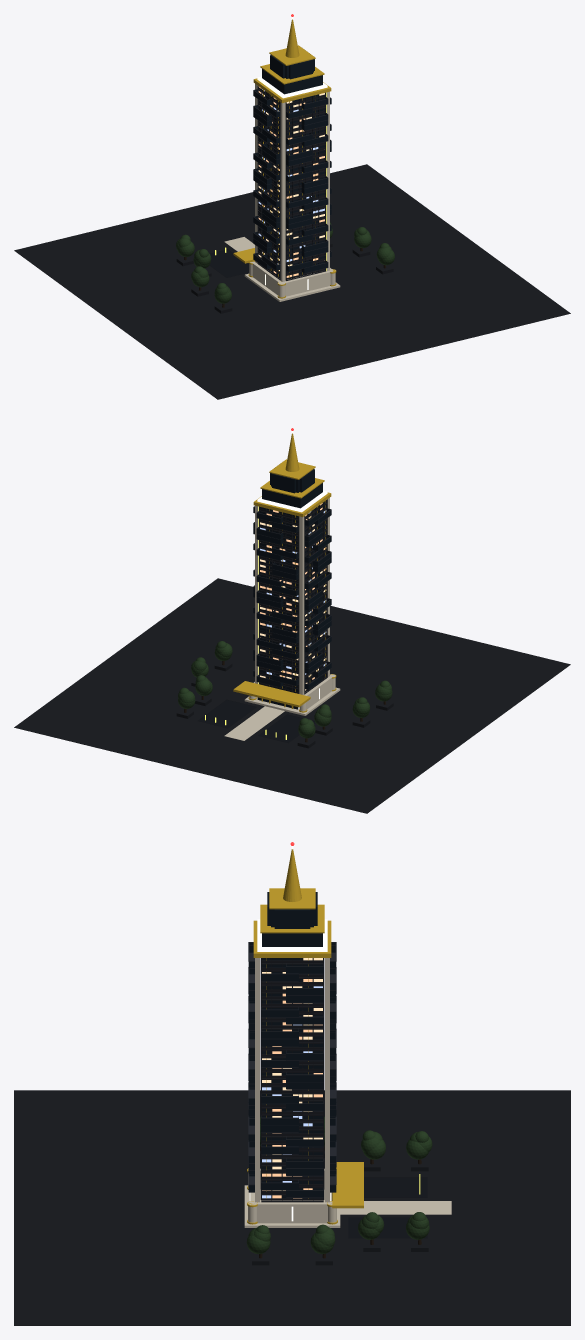
The model's file is tower.glb.
The picture shows the model from 3 angles, top to bottom: view 1: azimuth 30°, elevation 25°; view 2: azimuth 150°, elevation 25°; view 3: azimuth 270°, elevation 25°; orthographic projection. The views are drawn at different scales.
Visible parts, largest first — view 1: plaza, mullions, balcony_glass, facade_glass, balconies, mega_frame, canopies, podium, crown_gold, crown_glass, pool, planters; view 2: plaza, balcony_glass, mullions, facade_glass, canopies, balconies, mega_frame, pool, crown_gold, crown_glass, podium_gold, podium (+2 smaller); view 3: plaza, balcony_glass, mullions, facade_glass, balconies, canopies, crown_gold, podium, mega_frame, facade_struct, pool, crown_glass (+3 smaller).
Part boxes in pixels (left/top/right/bottom): plaza: left=14, top=164, right=570, bottom=399; mullions: left=257, top=85, right=325, bottom=280; balcony_glass: left=253, top=89, right=331, bottom=273; facade_glass: left=258, top=86, right=324, bottom=277; balconies: left=253, top=89, right=331, bottom=273; mega_frame: left=255, top=84, right=329, bottom=281; canopies: left=176, top=222, right=394, bottom=303; podium: left=244, top=261, right=340, bottom=301; crown_gold: left=253, top=19, right=331, bottom=103; crown_glass: left=262, top=55, right=322, bottom=94; pool: left=209, top=249, right=248, bottom=277; planters: left=176, top=242, right=393, bottom=313; plaza: left=14, top=578, right=570, bottom=813; balcony_glass: left=253, top=507, right=331, bottom=689; mullions: left=259, top=499, right=327, bottom=694; facade_glass: left=260, top=500, right=326, bottom=691; canopies: left=178, top=641, right=392, bottom=738; balconies: left=253, top=506, right=331, bottom=689; mega_frame: left=255, top=498, right=329, bottom=694; pool: left=198, top=700, right=315, bottom=742; crown_gold: left=253, top=433, right=331, bottom=517; crown_glass: left=262, top=469, right=322, bottom=508; podium_gold: left=233, top=674, right=336, bottom=712; podium: left=244, top=674, right=340, bottom=715; plaza: left=14, top=1090, right=570, bottom=1325; balcony_glass: left=248, top=942, right=336, bottom=1197; mullions: left=261, top=958, right=323, bottom=1202; facade_glass: left=262, top=958, right=322, bottom=1198; balconies: left=248, top=942, right=336, bottom=1197; canopies: left=246, top=1116, right=432, bottom=1254; crown_gold: left=253, top=849, right=331, bottom=957; podium: left=244, top=1168, right=340, bottom=1227; mega_frame: left=255, top=958, right=329, bottom=1202; facade_struct: left=260, top=958, right=324, bottom=1199; pool: left=348, top=1177, right=427, bottom=1237; crown_glass: left=262, top=892, right=322, bottom=946.
Bounding box in the file's own units: 70 × 50.75 × 70.
